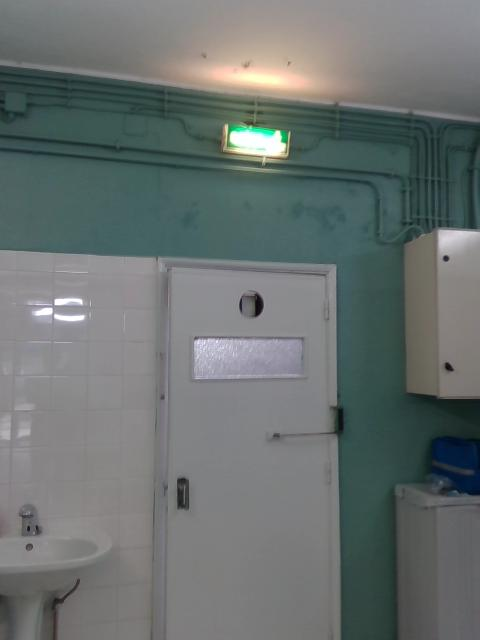door: (164, 267, 332, 640)
